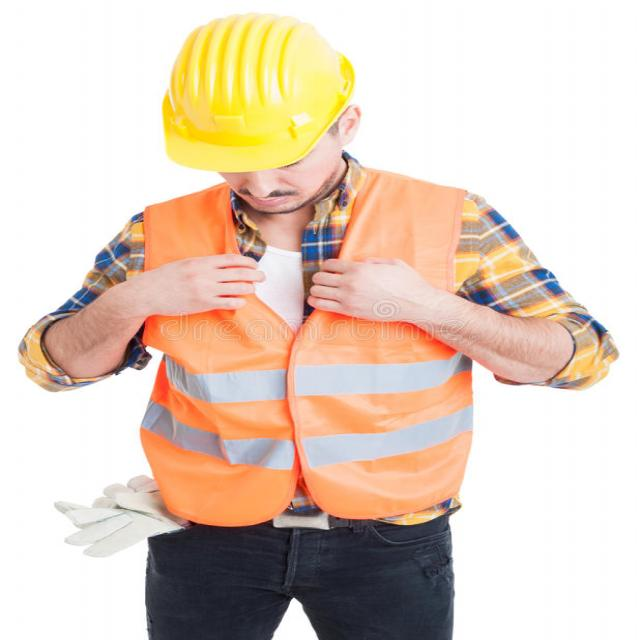Reflective-Jacket: (128, 175, 480, 524)
Safety-Helmet: (154, 10, 362, 171)
